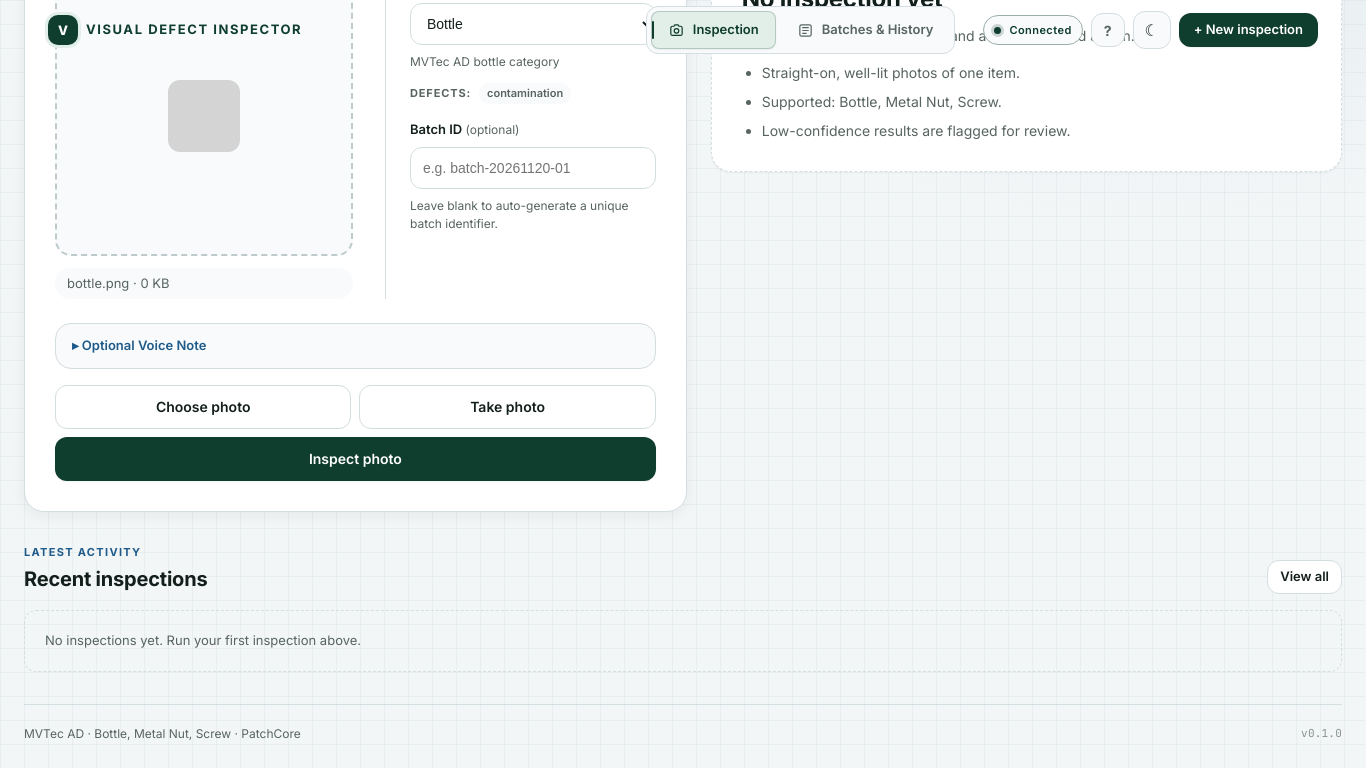
Scenario: App › shows an API error and lets the operator start over
The image size is (1366, 768).
Earlier steps of the test are not shown.
(page scrolled)
Click the button "Inspect photo".
click(355, 459)  # box [55, 437, 656, 481]
(page scrolled)
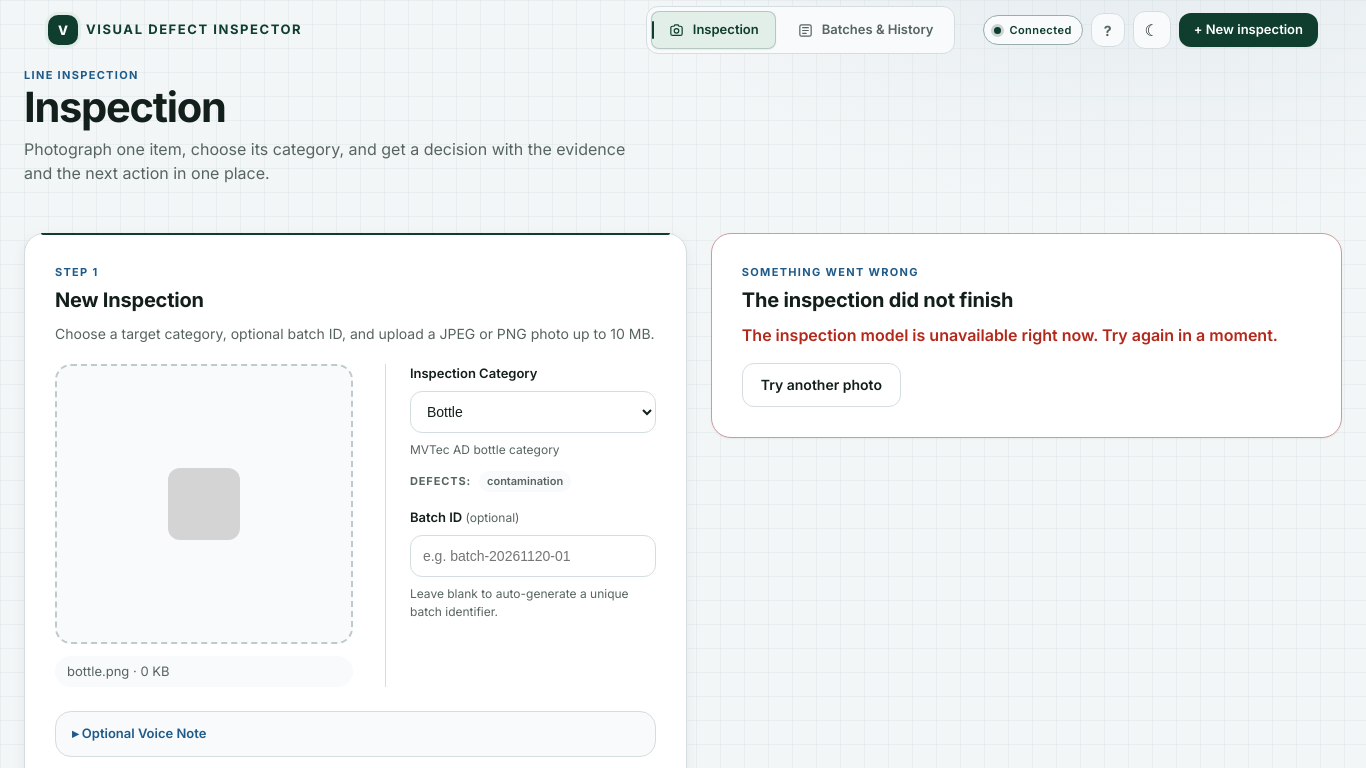
expect the message shows "The inspection did not finish": met, box [742, 288, 1013, 312]
expect the message shows "unavailable right now": met, box [742, 325, 1278, 345]
Click the button "Try another photo".
click(821, 385)  # box [742, 363, 901, 407]
(page scrolled)
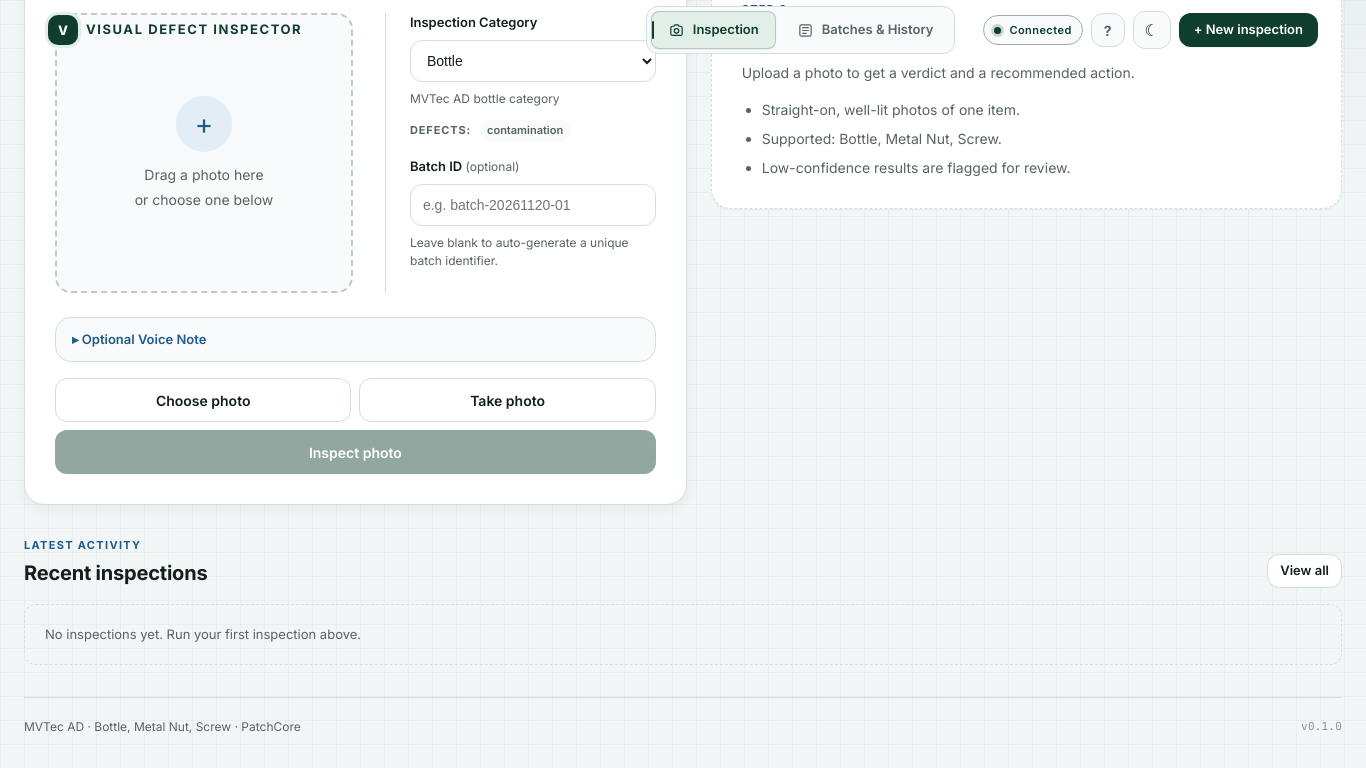
expect the heading "No inspection yet" is shown: met, box [742, 21, 943, 50]
expect the text with test id "file-chip" is gone: met
expect the button "Inspect photo" is disabled: met, box [55, 430, 656, 474]
